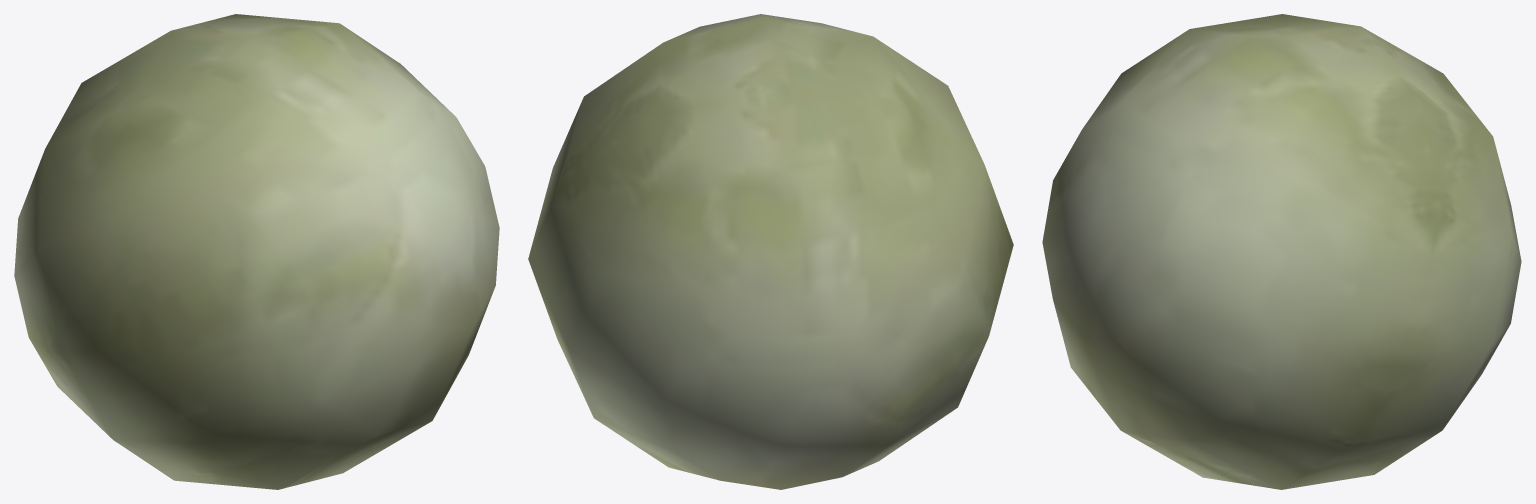
Rendered from ITMI_WHITEPEARL_01.glb.
3 views of the same model, side by side, from view 1: azimuth 30°, elevation 25°; view 2: azimuth 150°, elevation 25°; view 3: azimuth 270°, elevation 25° (orthographic).
Parts seen in each view (by area): view 1: Mesh; view 2: Mesh; view 3: Mesh.
Boxes of the visible parts, <box> form: Mesh: <box>14,14,499,489</box>; Mesh: <box>528,14,1013,489</box>; Mesh: <box>1042,14,1521,489</box>.
Size of the model in its own units: 0.0975 by 0.0993 by 0.0984.
Materials: 1 (1 with a texture image).
